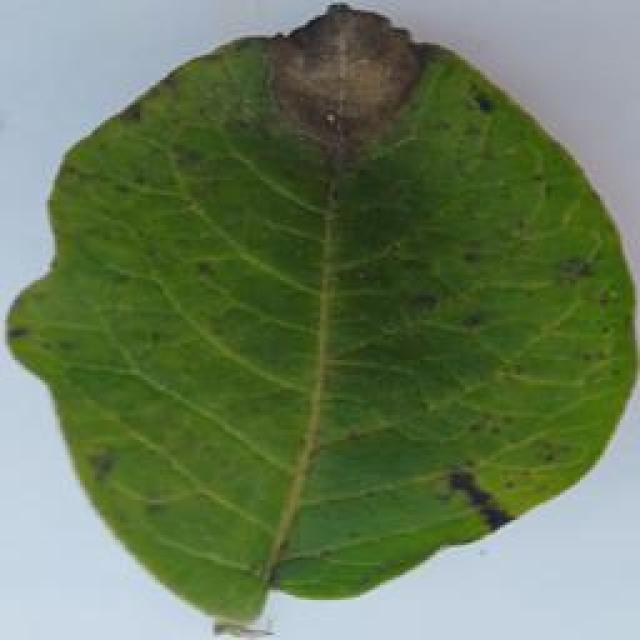Potato_Late_Blight: (10, 6, 628, 633)
